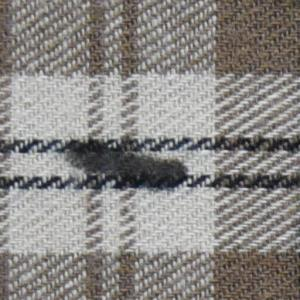Stain: (58, 135, 198, 200)
